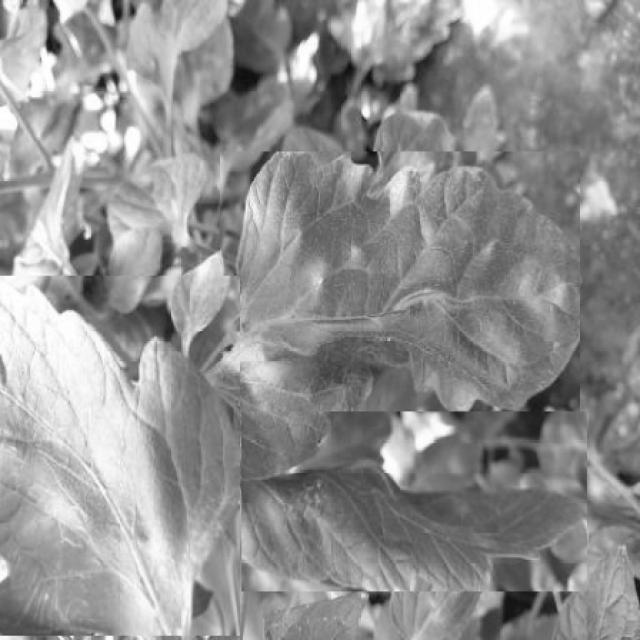Leaf Mold: (220, 151, 580, 480), (0, 276, 240, 636), (242, 412, 588, 592)
